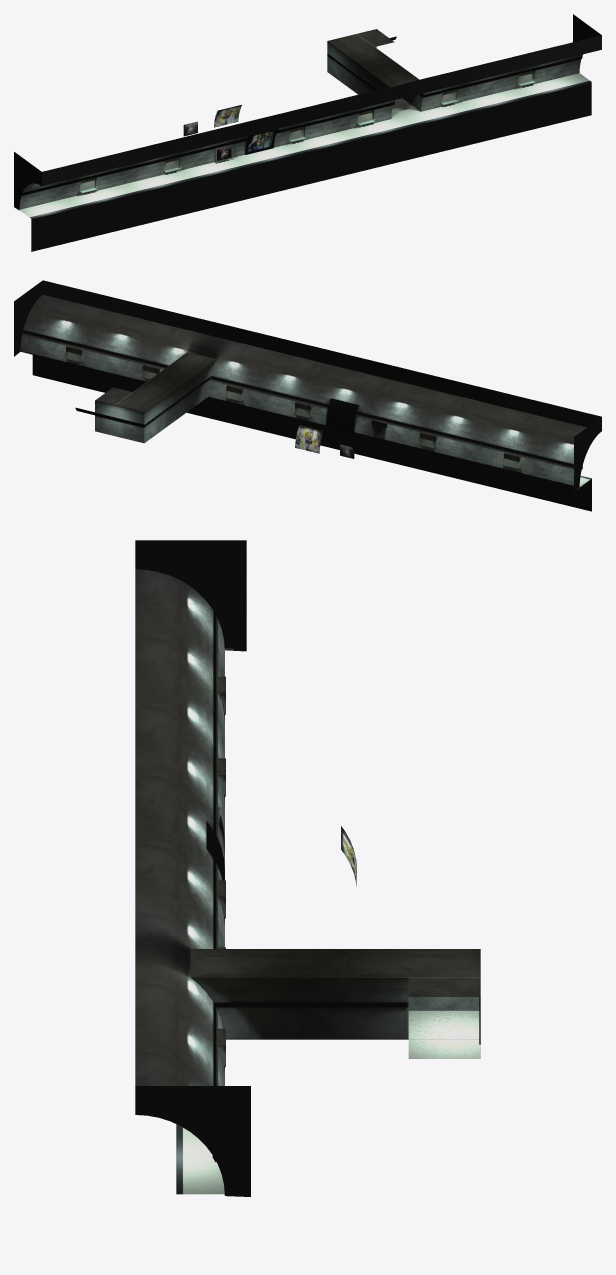
Rendered from anden2.glb.
The picture shows the model from 3 angles, top to bottom: view 1: azimuth 30°, elevation 25°; view 2: azimuth 150°, elevation 25°; view 3: azimuth 270°, elevation 25°; orthographic projection. The views are drawn at different scales.
Parts seen in each view (by area): view 1: anden, pared, pasillo, soportes, cartel.cartel.002, cartel.cartel.001, banco; view 2: pared, anden, pasillo, cartel.cartel.002; view 3: pared, pasillo, anden.
Boxes of the visible parts, x1,y1,x2,y2 form: anden: [19, 73, 591, 251]; pared: [14, 14, 601, 210]; pasillo: [327, 29, 424, 118]; soportes: [21, 36, 582, 195]; cartel.cartel.002: [214, 105, 241, 127]; cartel.cartel.001: [247, 130, 274, 151]; banco: [79, 79, 536, 193]; pared: [14, 280, 601, 492]; anden: [32, 355, 591, 511]; pasillo: [95, 352, 216, 443]; cartel.cartel.002: [295, 425, 323, 453]; pared: [135, 540, 250, 1196]; pasillo: [190, 949, 480, 1058]; anden: [176, 649, 224, 1194].
Size of the model in its own units: 400 by 59.7 by 107.
10 materials, 9 textured.
